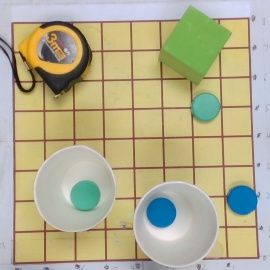blue: (227, 185, 257, 215)
cup_blue: (132, 174, 218, 267)
cup_green: (33, 142, 122, 232)
green: (191, 93, 220, 121)
